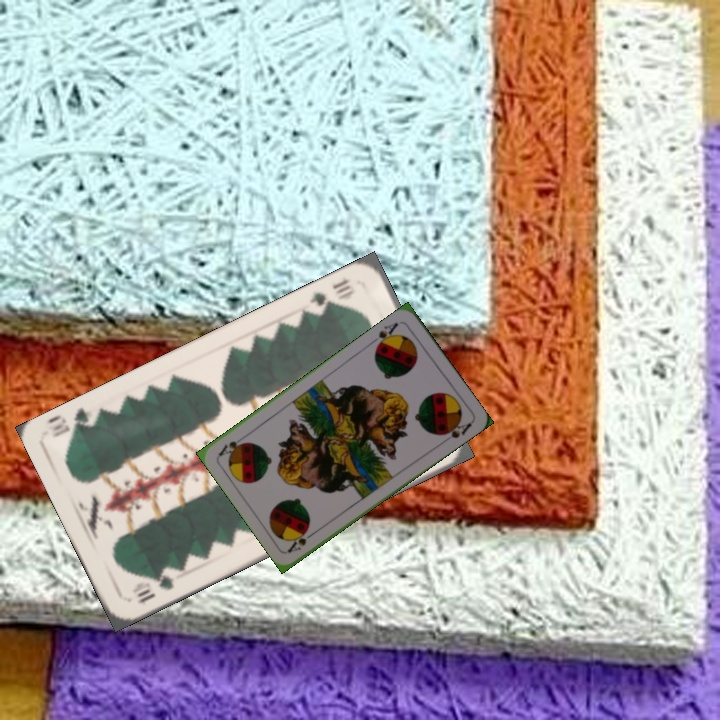G10: (305, 273, 358, 314), (133, 569, 176, 607)
SA: (284, 525, 320, 555), (372, 318, 401, 352)
